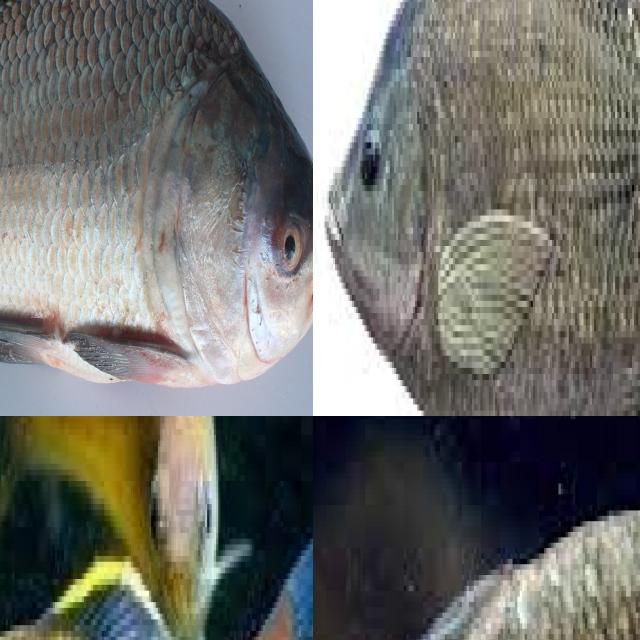fish: (0, 0, 313, 416), (377, 0, 640, 416), (464, 416, 640, 640)
